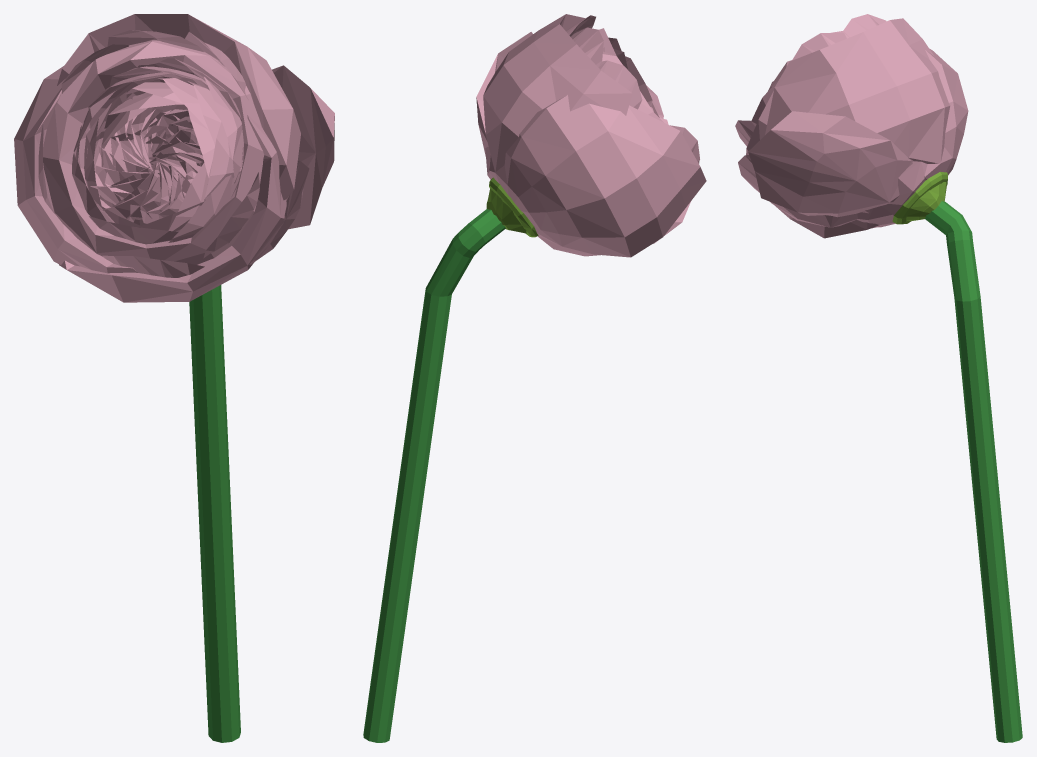
3 renders of one model, left to right at view 1: azimuth 30°, elevation 25°; view 2: azimuth 150°, elevation 25°; view 3: azimuth 270°, elevation 25°, orthographic. The views are drawn at different scales.
Parts seen in each view (by area): view 1: node_MeshObject697905152-PolyPaper6; view 2: node_MeshObject697905152-PolyPaper6; view 3: node_MeshObject697905152-PolyPaper6.
Part boxes in pixels (<box>): node_MeshObject697905152-PolyPaper6: <box>14,14,334,742</box>; node_MeshObject697905152-PolyPaper6: <box>363,14,706,742</box>; node_MeshObject697905152-PolyPaper6: <box>735,14,1022,742</box>.
Size of the model in its own units: 0.3803 by 0.9852 by 0.3904.
